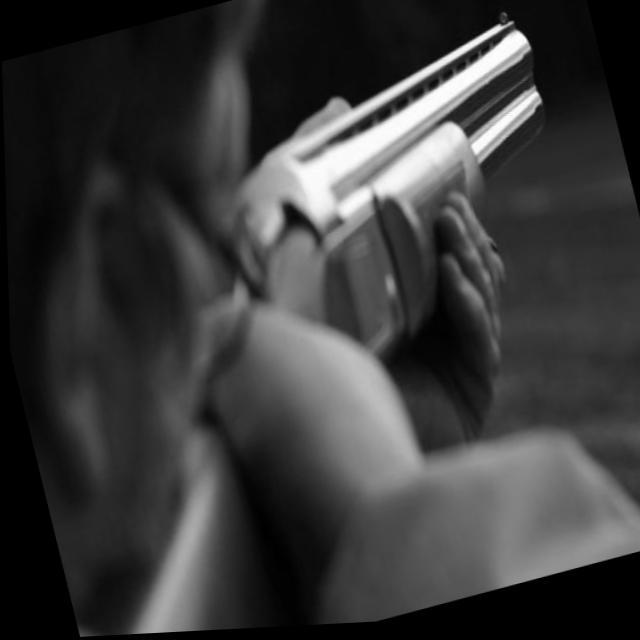weapon: (177, 5, 598, 408)
